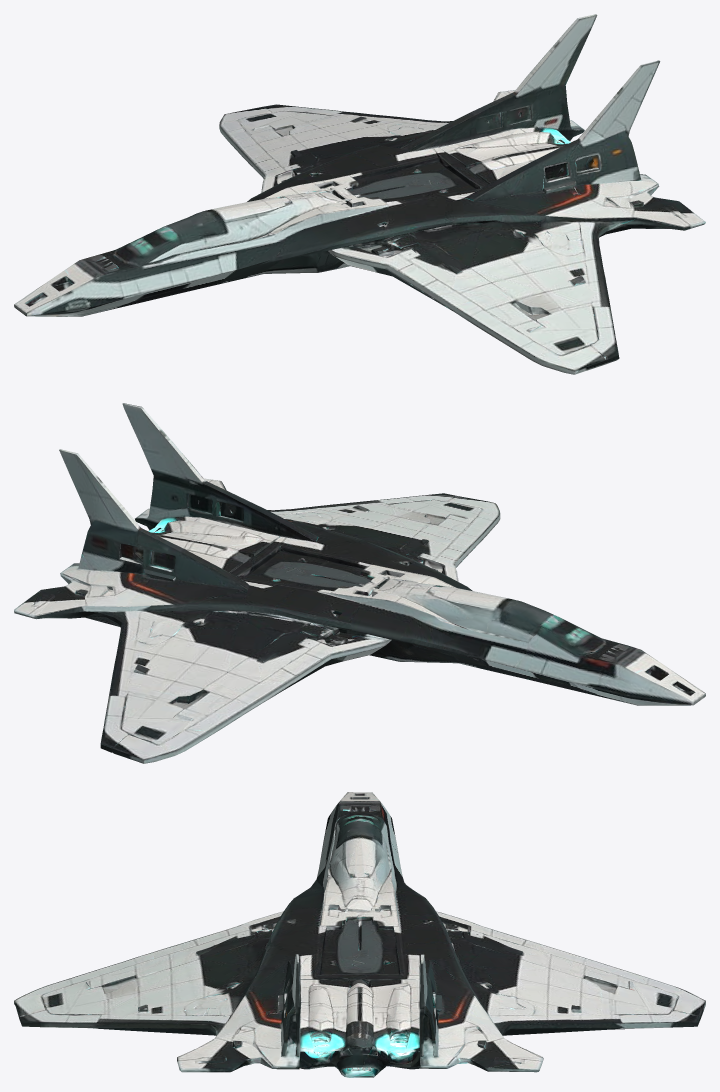
The model's file is vessel-seraph.glb.
3 views of the same model, one above another, from view 1: azimuth 30°, elevation 25°; view 2: azimuth 150°, elevation 25°; view 3: azimuth 270°, elevation 25° (orthographic).
Bounding box in the file's own units: 1.9 × 0.4702 × 1.9.
Materials: 1 (1 with a texture image).
